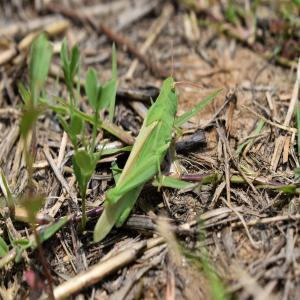locust: (86, 51, 208, 250)
